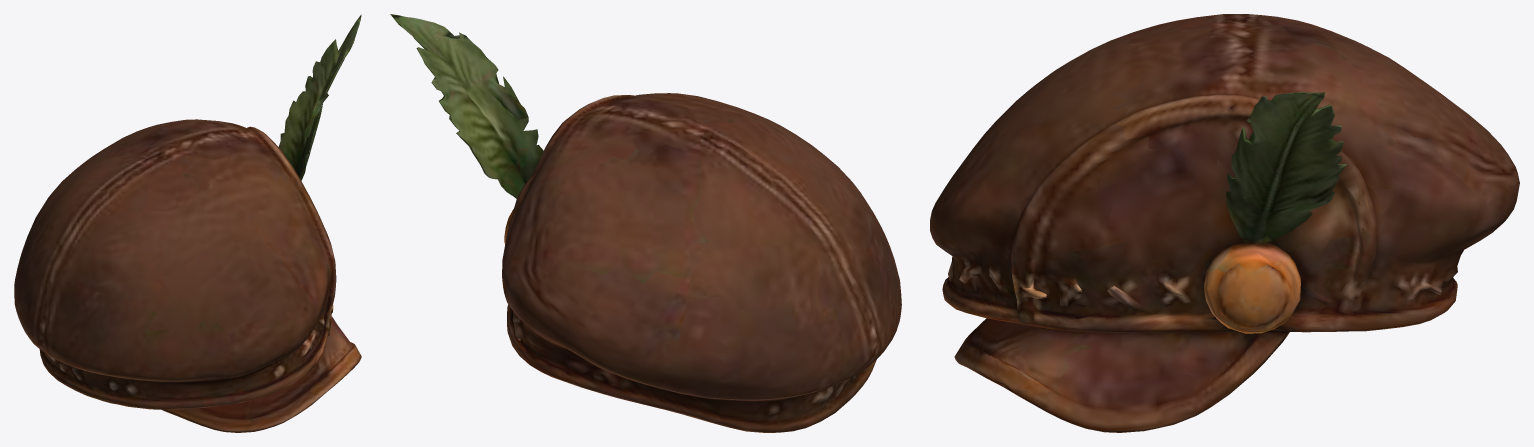
Rendered from hat_plume.glb.
The picture shows the model from 3 angles, left to right: view 1: azimuth 30°, elevation 25°; view 2: azimuth 150°, elevation 25°; view 3: azimuth 270°, elevation 25°; orthographic projection. The views are drawn at different scales.
Visible parts, largest first — view 1: tripo_node_8d43e77e-9478-4e61-baa2-2e3bcad7d366; view 2: tripo_node_8d43e77e-9478-4e61-baa2-2e3bcad7d366; view 3: tripo_node_8d43e77e-9478-4e61-baa2-2e3bcad7d366.
Part boxes in pixels (x1,y1,x2,y2): tripo_node_8d43e77e-9478-4e61-baa2-2e3bcad7d366: (14, 14, 361, 432); tripo_node_8d43e77e-9478-4e61-baa2-2e3bcad7d366: (390, 14, 901, 432); tripo_node_8d43e77e-9478-4e61-baa2-2e3bcad7d366: (930, 14, 1519, 432).
Bounding box in the file's own units: 1.33 × 1 × 1.25.
1 material, 1 textured.
